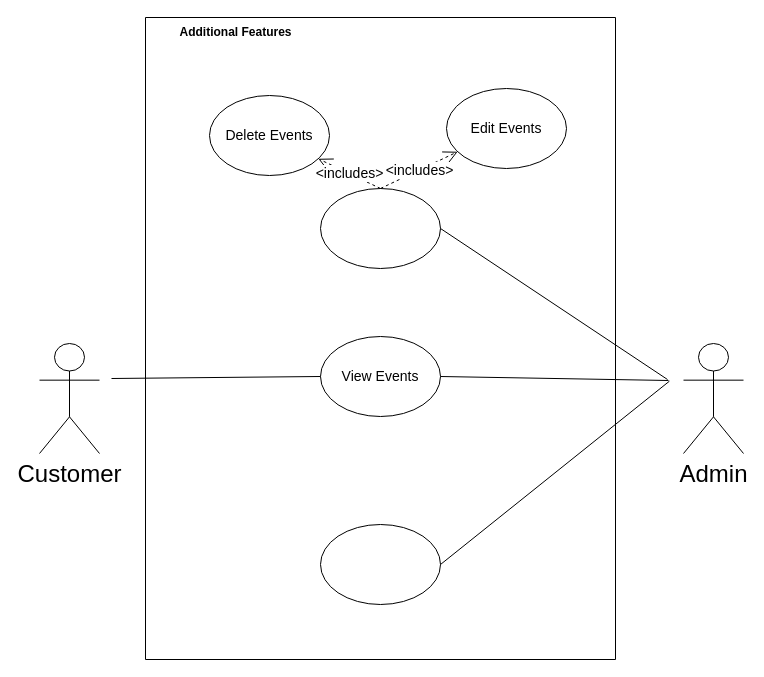
Some shapes in this 764 by 677 pixel diagram are drawn without their labels. The box of each missing label's shape, as (x1, y1, x2, y2) in pixels:
Add Events: (320, 188, 440, 268)
View Data Analytics: (320, 524, 440, 604)
